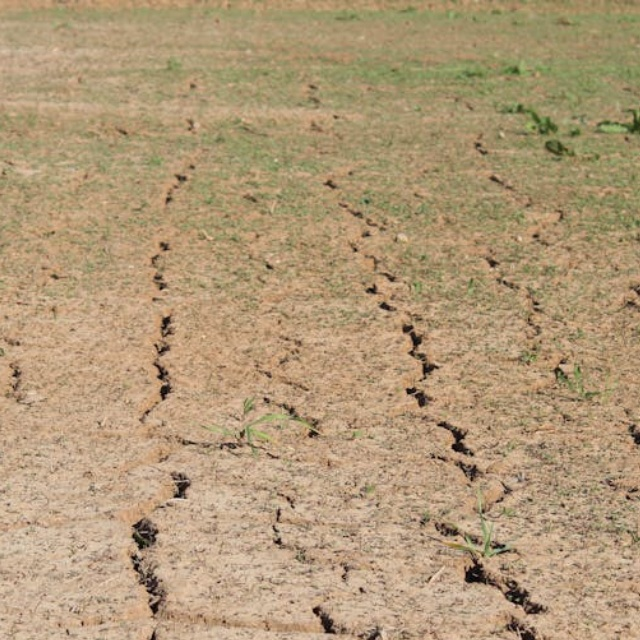细微裂纹: (346, 225, 506, 575), (110, 106, 218, 481), (78, 401, 203, 640)
网状裂隙: (0, 92, 640, 640), (386, 114, 627, 623), (357, 163, 522, 586), (92, 172, 237, 591), (321, 177, 480, 559)
